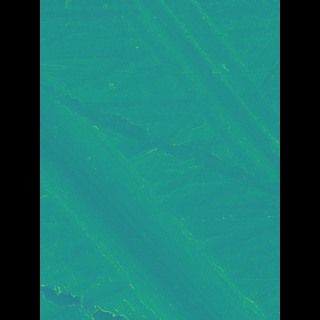Loch: (69, 82, 242, 319), (129, 0, 251, 192)
